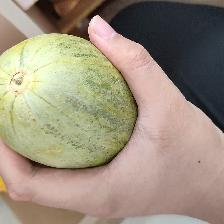gua: (11, 58, 122, 154)
